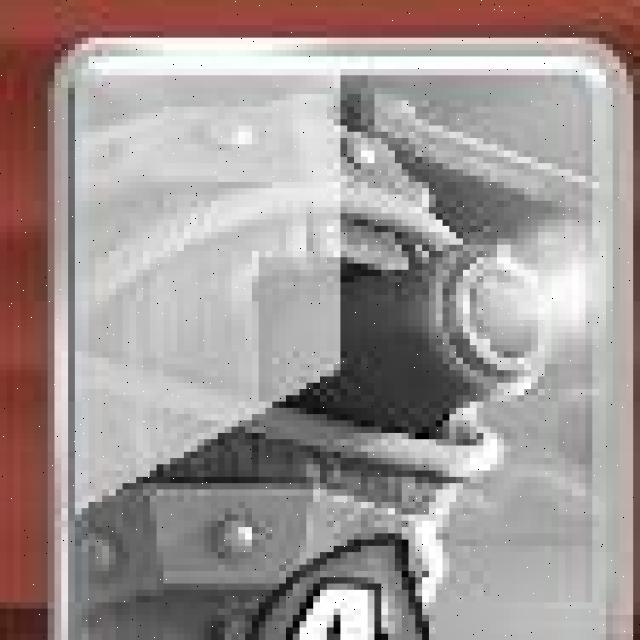Flying_Machine: (48, 32, 635, 640)
